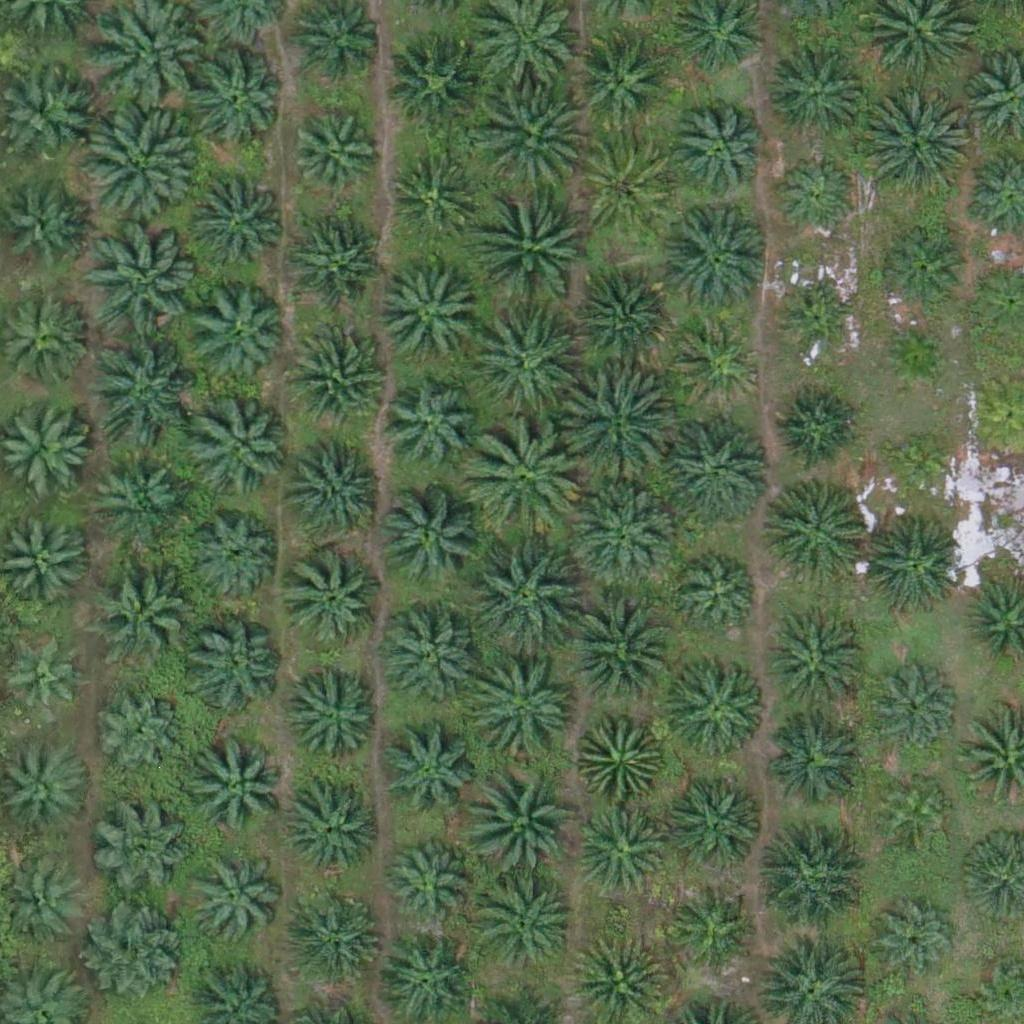Kelapa_Sawit: (465, 308, 578, 422), (474, 80, 587, 194), (470, 655, 583, 768), (469, 539, 582, 652), (858, 87, 971, 200), (82, 108, 195, 221), (570, 476, 682, 590), (476, 183, 588, 297), (83, 335, 195, 448), (469, 869, 581, 982), (464, 759, 576, 872), (467, 422, 579, 535), (557, 370, 669, 483), (562, 591, 674, 704), (660, 411, 772, 524), (751, 822, 863, 935), (659, 201, 771, 314), (89, 224, 201, 337), (89, 447, 189, 548), (92, 558, 192, 659), (91, 796, 191, 897), (89, 900, 189, 1001), (186, 281, 286, 382), (192, 735, 292, 836), (185, 850, 285, 951), (282, 778, 382, 879), (284, 549, 384, 650), (285, 325, 385, 426), (382, 376, 482, 477), (380, 486, 480, 587), (375, 722, 475, 823), (667, 777, 767, 878), (666, 653, 766, 754), (768, 617, 868, 718), (766, 708, 866, 809), (859, 515, 959, 616), (766, 41, 866, 142), (668, 100, 768, 201), (571, 28, 671, 129), (287, 213, 387, 314), (186, 46, 286, 147), (184, 172, 284, 273), (191, 400, 291, 500), (182, 617, 282, 717), (290, 889, 390, 989), (285, 665, 385, 765), (292, 436, 392, 536), (376, 267, 476, 367), (379, 604, 479, 704), (572, 271, 672, 371), (765, 479, 865, 579), (577, 137, 677, 237), (388, 33, 488, 133), (1, 740, 89, 828), (96, 690, 184, 778), (579, 803, 667, 891), (673, 878, 761, 966), (873, 893, 961, 981), (771, 154, 859, 242), (387, 152, 475, 240), (289, 114, 377, 202), (674, 319, 761, 407), (191, 511, 278, 599), (385, 836, 472, 924), (577, 711, 664, 799), (678, 553, 765, 641), (773, 383, 860, 471), (871, 660, 958, 748), (877, 226, 964, 314), (877, 318, 952, 394), (881, 426, 956, 502), (783, 289, 858, 364), (878, 774, 953, 849)
